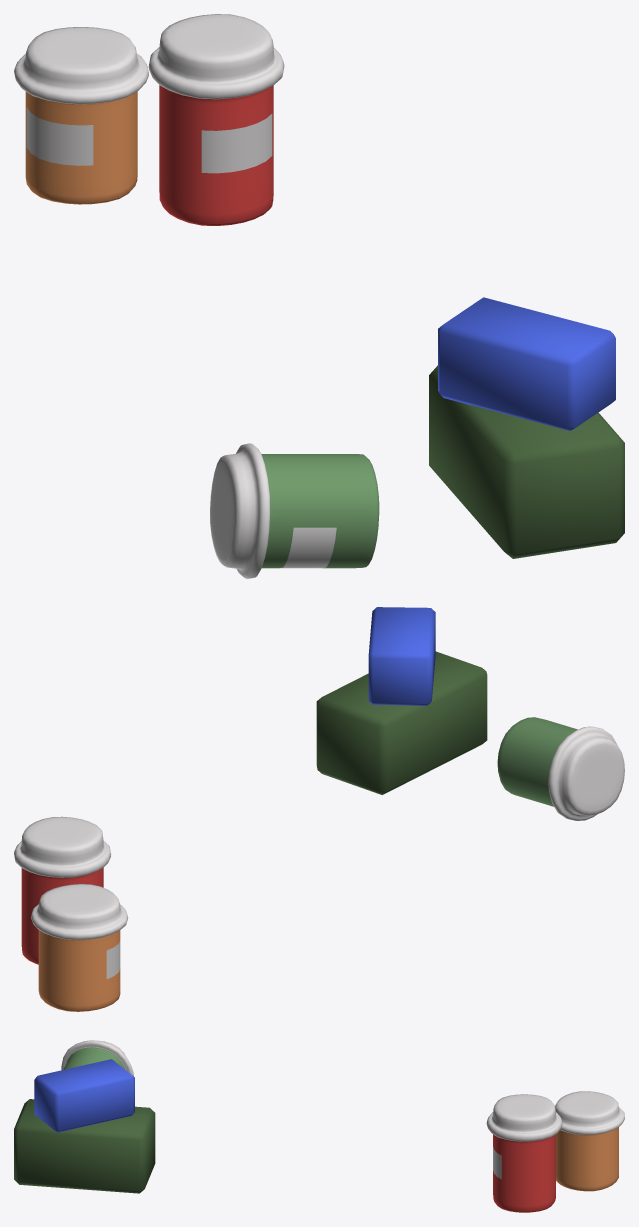
File: Bedroom_Pills.fbx
The picture shows the model from 3 angles, top to bottom: view 1: azimuth 30°, elevation 25°; view 2: azimuth 150°, elevation 25°; view 3: azimuth 270°, elevation 25°; orthographic projection. The views are drawn at different scales.
Parts seen in each view (by area): view 1: Pill_box.003, Pill_bottle.005, Pill_bottle.006, Pill_bottle.007, Pill_box.004; view 2: Pill_box.003, Pill_bottle.006, Pill_bottle.007, Pill_bottle.005, Pill_box.004; view 3: Pill_box.003, Pill_bottle.005, Pill_bottle.006, Pill_box.004, Pill_bottle.007.
Part boxes in pixels (box(x1,y1,x2,y2)): Pill_box.003: box(429, 365, 624, 558); Pill_bottle.005: box(148, 14, 284, 225); Pill_bottle.006: box(14, 27, 148, 204); Pill_bottle.007: box(210, 443, 379, 578); Pill_box.004: box(438, 297, 615, 430); Pill_box.003: box(316, 651, 487, 794); Pill_bottle.006: box(31, 884, 128, 1011); Pill_bottle.007: box(497, 717, 624, 820); Pill_bottle.005: box(14, 816, 111, 964); Pill_box.004: box(368, 607, 435, 705); Pill_box.003: box(14, 1099, 155, 1193); Pill_bottle.005: box(486, 1094, 562, 1212); Pill_bottle.006: box(555, 1091, 624, 1191); Pill_box.004: box(34, 1059, 134, 1132); Pill_bottle.007: box(61, 1040, 133, 1076).
Size of the model in its own units: 44.01 by 17.95 by 93.93.
